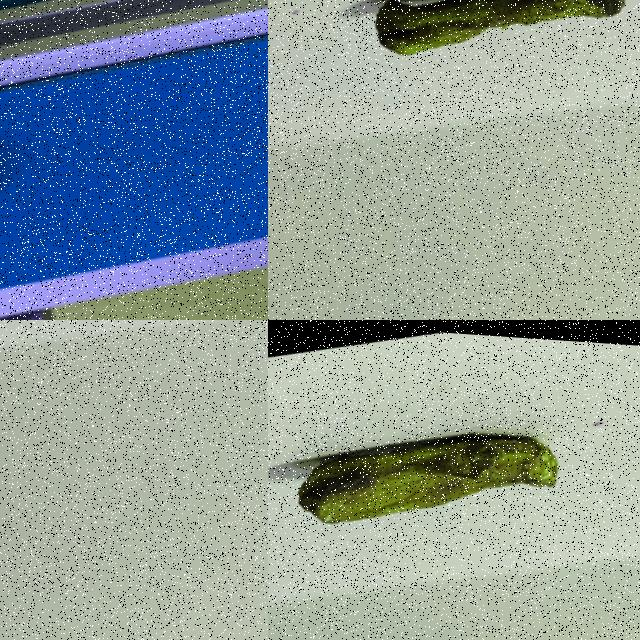Agglomerated_cocoabeans: (0, 79, 114, 317)
Flat_cocoabeans: (268, 360, 626, 587), (313, 0, 639, 113)
